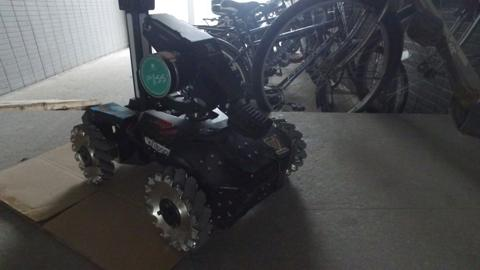bike: (199, 9, 456, 122)
chariot: (54, 7, 310, 254)
